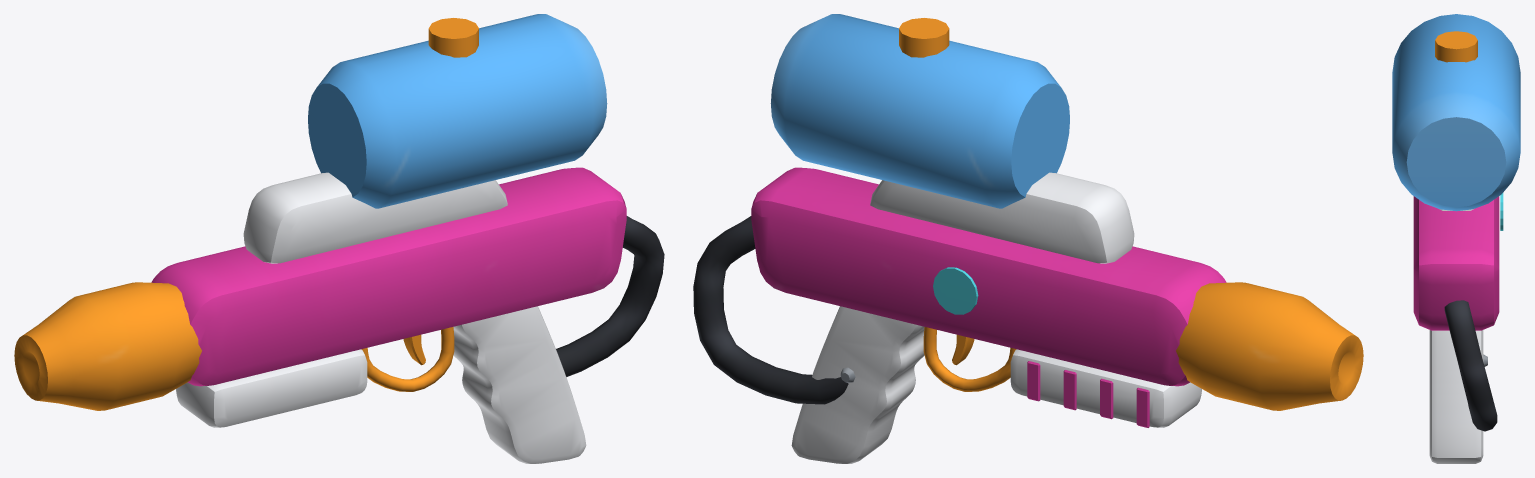
Rendered from FireHose.fbx.
3 renders of one model, left to right at view 1: azimuth 30°, elevation 25°; view 2: azimuth 150°, elevation 25°; view 3: azimuth 270°, elevation 25°, orthographic. The views are drawn at different scales.
Visible parts, largest first — view 1: FireHose; view 2: FireHose; view 3: FireHose.
Part boxes in pixels (<box>): FireHose: <box>14,14,664,463</box>; FireHose: <box>693,14,1363,463</box>; FireHose: <box>1392,14,1520,463</box>.
Bounding box in the file's own units: 0.8791 × 0.5867 × 0.18.
7 materials, 7 textured.
